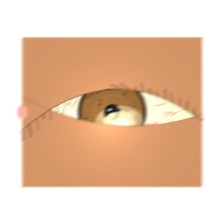corneal_ulcer: (94, 102, 145, 142)
